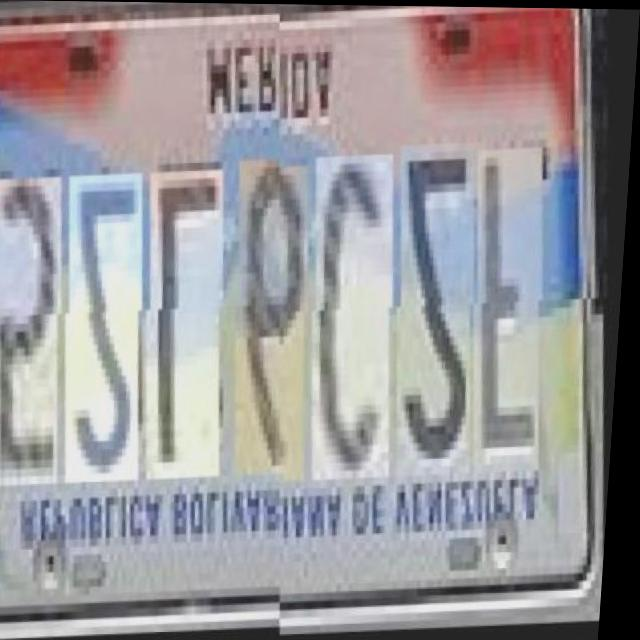2: (392, 138, 499, 473), (63, 175, 167, 485)
5: (0, 178, 86, 488)
6: (232, 161, 333, 479)
c: (307, 149, 418, 476)
f: (469, 143, 568, 471)
l: (143, 172, 248, 482)
